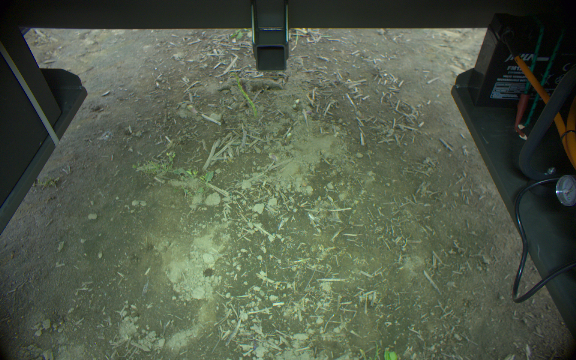aspa: (232, 72, 257, 118)
